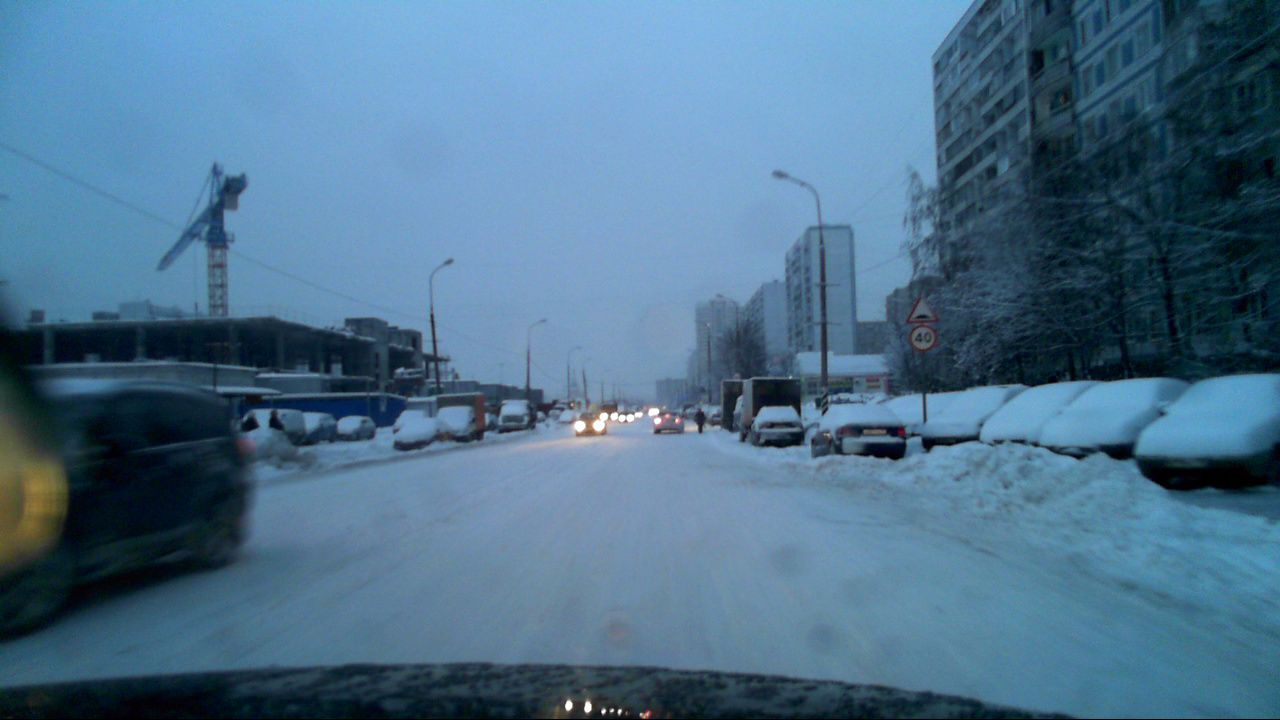speed_warning_40: (908, 323, 936, 349)
